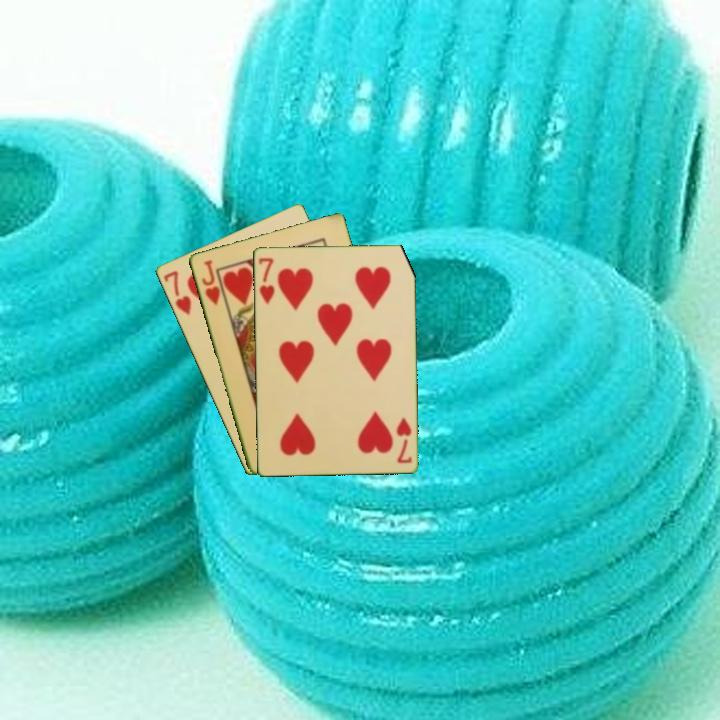7h: (159, 267, 194, 318), (255, 254, 277, 307), (392, 414, 414, 466)
Jh: (198, 256, 223, 308)
